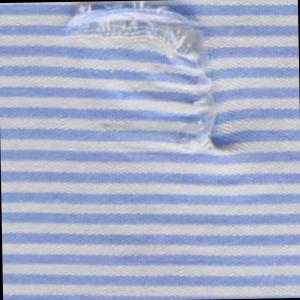Damage: (64, 1, 242, 163)
